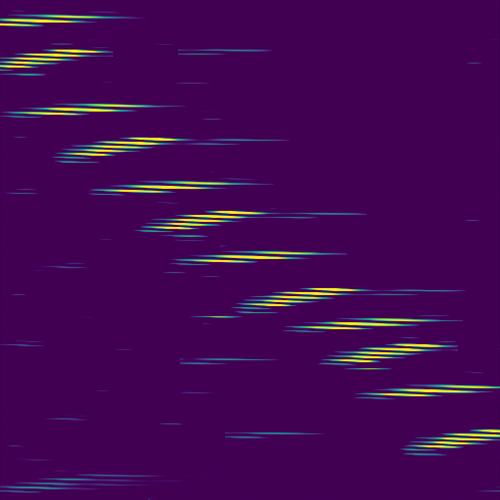semblance: (325, 341, 444, 373), (238, 283, 362, 310), (146, 206, 270, 232), (66, 135, 190, 160), (10, 98, 151, 119), (1, 46, 116, 71), (366, 381, 500, 401), (179, 247, 314, 266), (1, 11, 118, 32), (100, 178, 230, 195), (298, 316, 432, 332), (407, 426, 500, 449)
